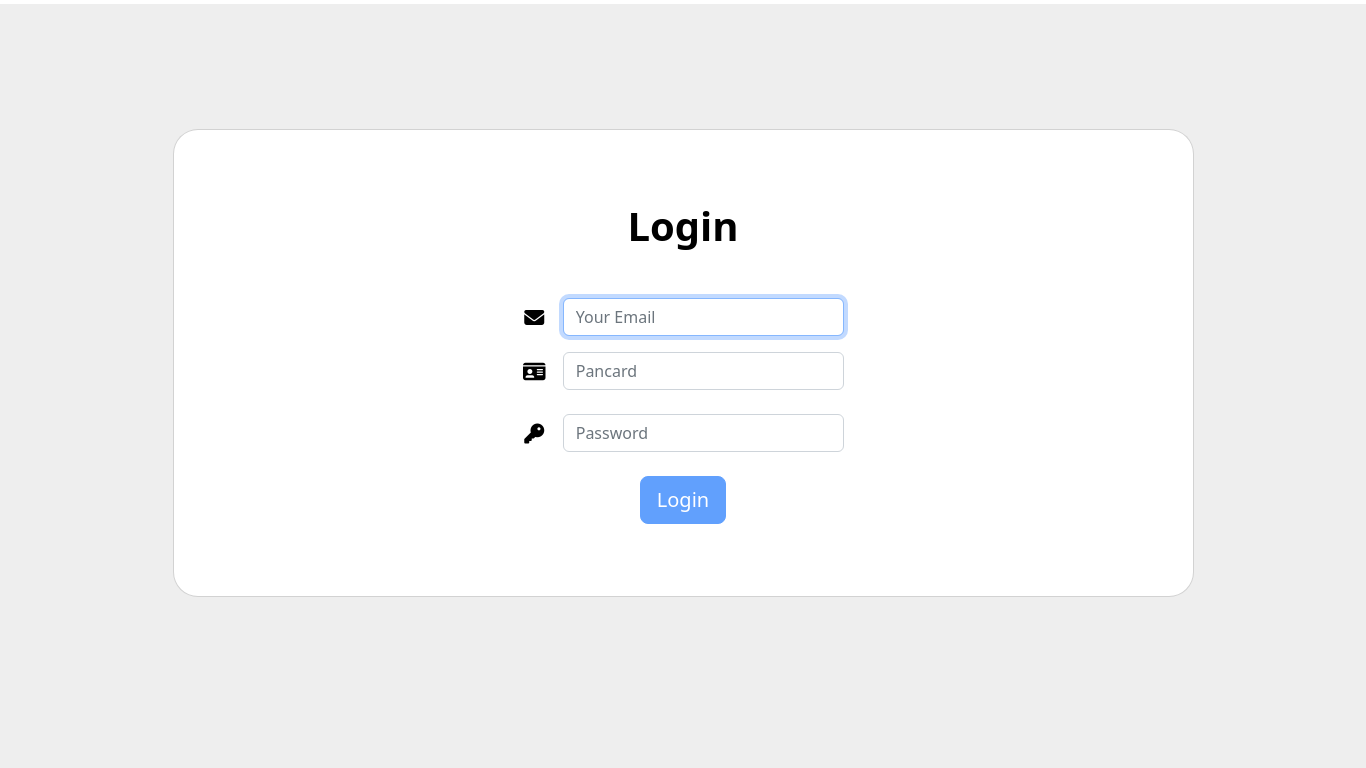
Login Page › should handle errors in input
Press Tab
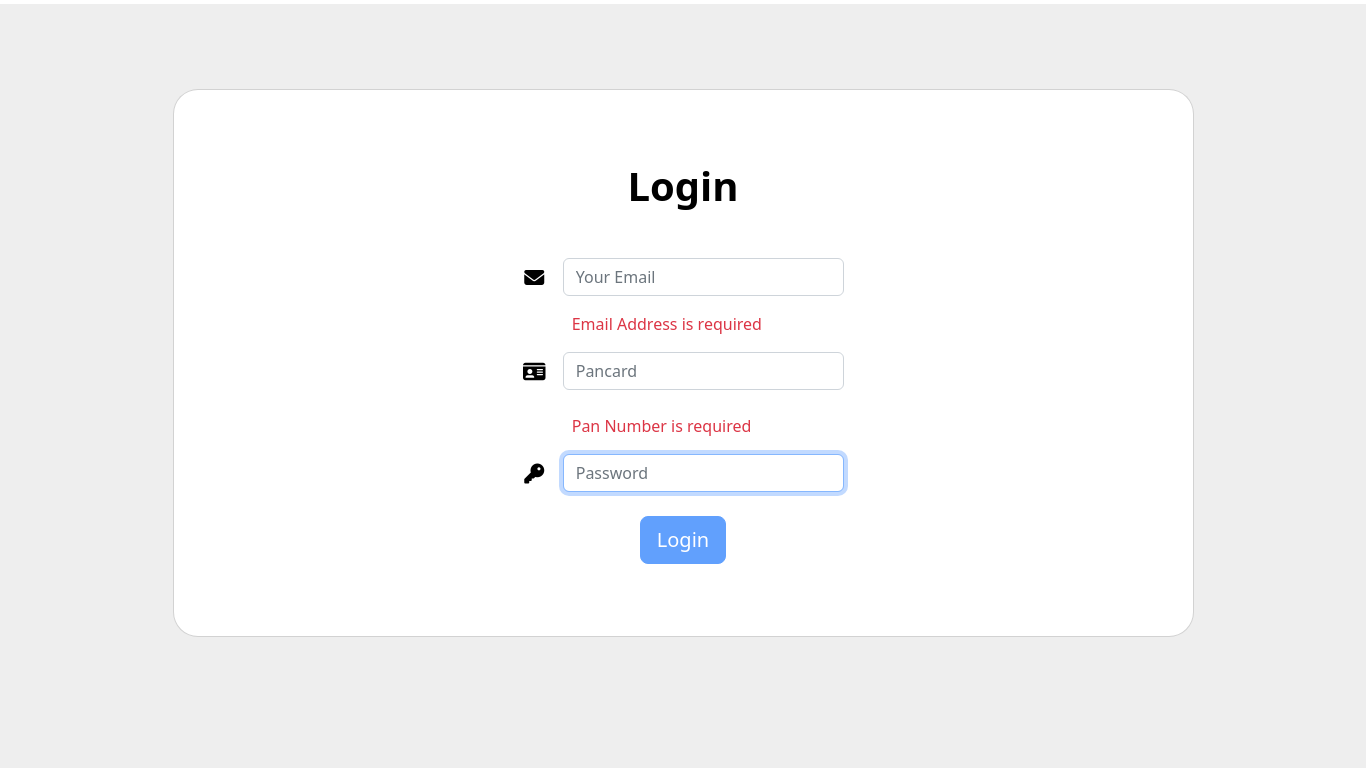
Expected: the text "Email Address is required" is shown, [572,313,762,335]
Press Tab
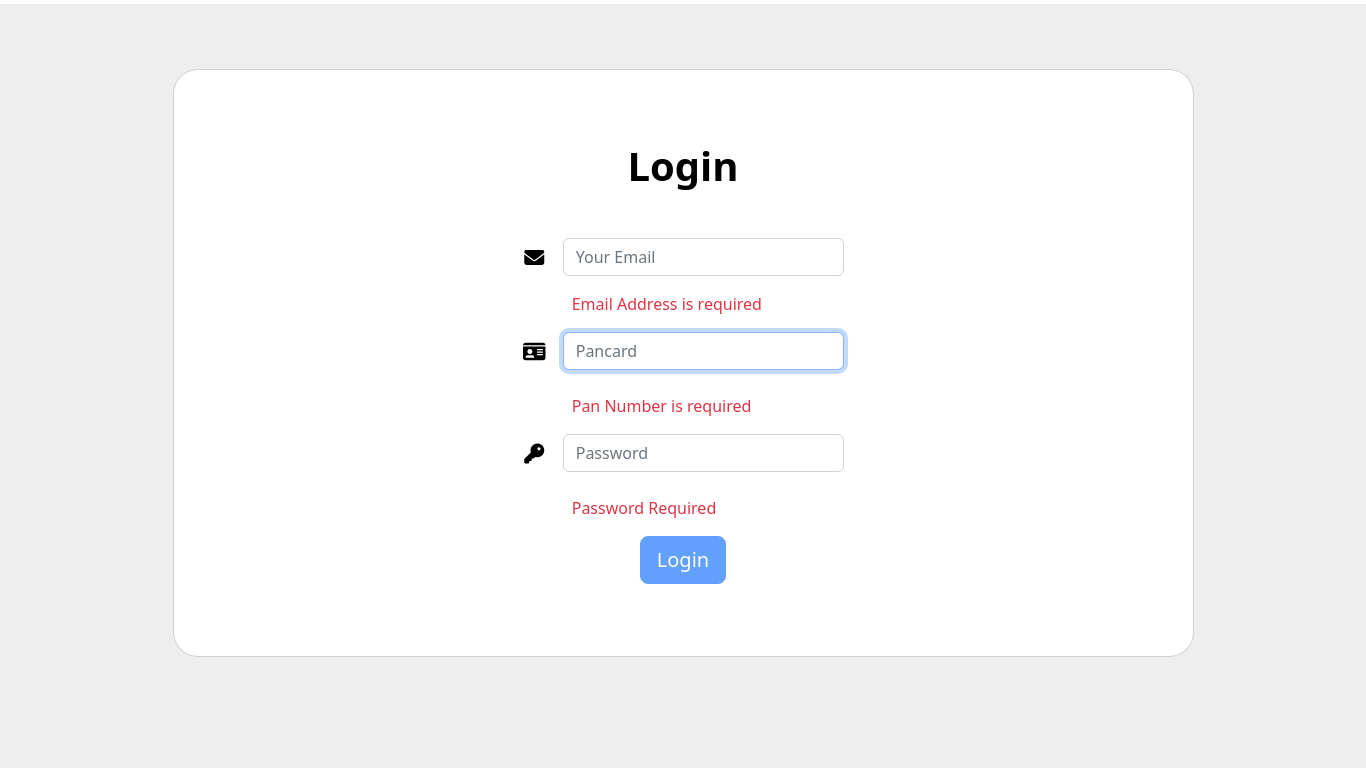
Expected: the text "Password Required" is shown, [572,497,716,519]
Press Tab
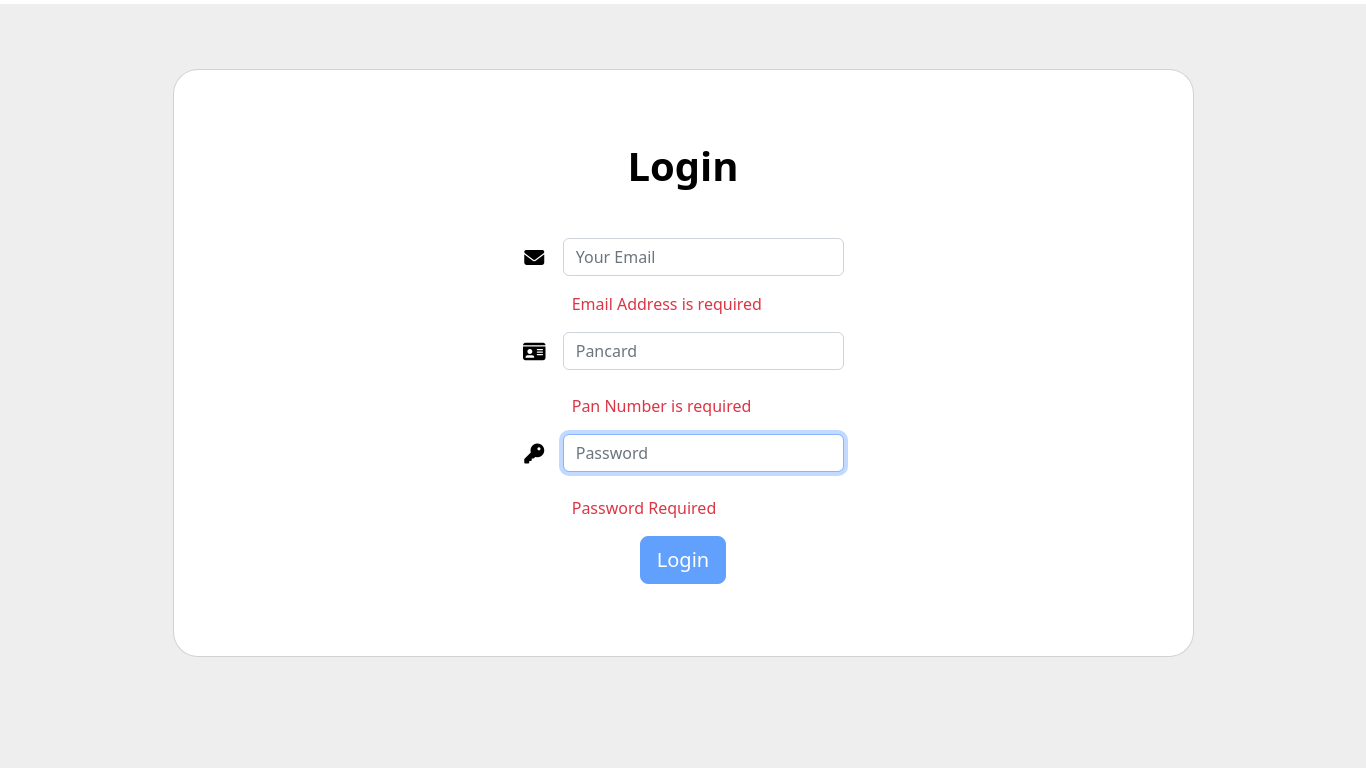
Expected: the text "Pan Number is required" is shown, [572,395,751,417]
In the field labelled "Email": (704, 257) [563,238,844,276], type "mOCK1"
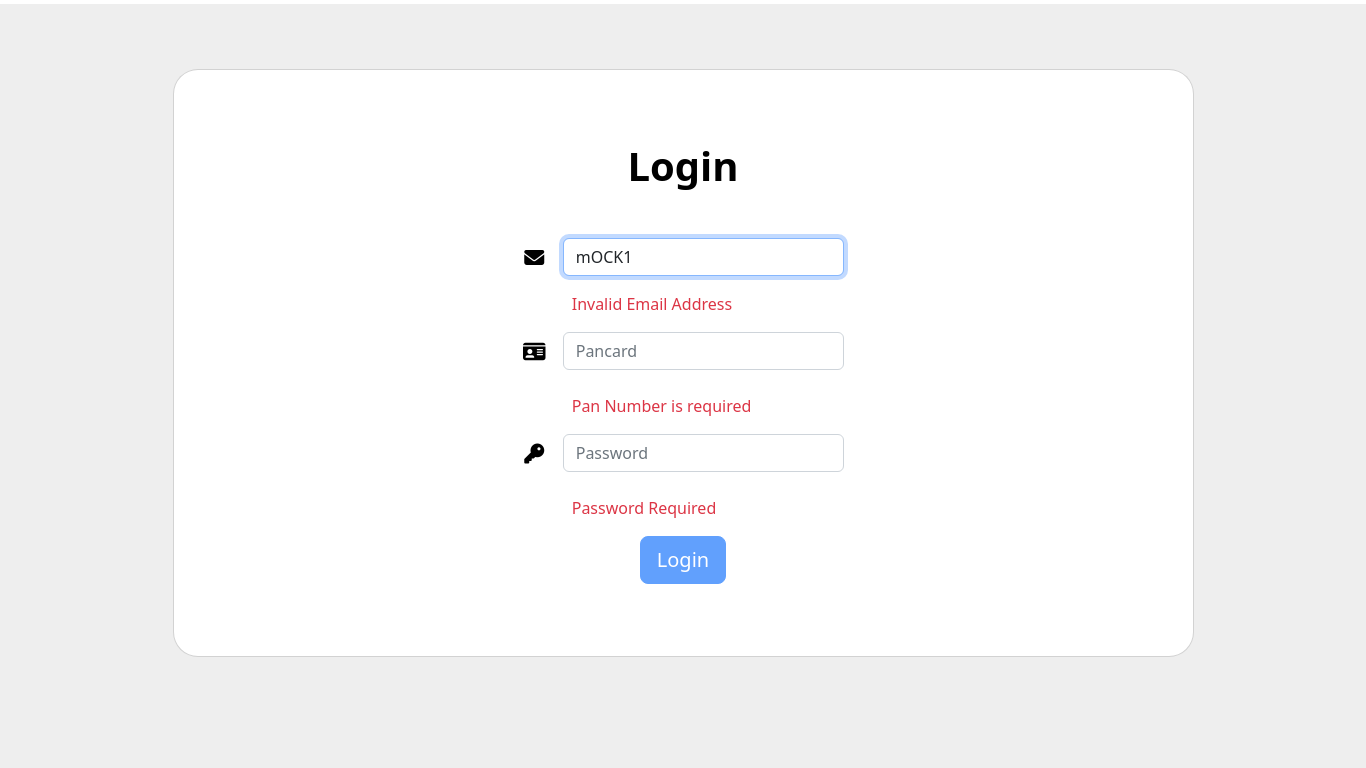
Expected: the text "Invalid Email Address" is shown, [572,293,732,315]
In the password field with placeholder "Password": (704, 453) [563,434,844,472], type "ui"
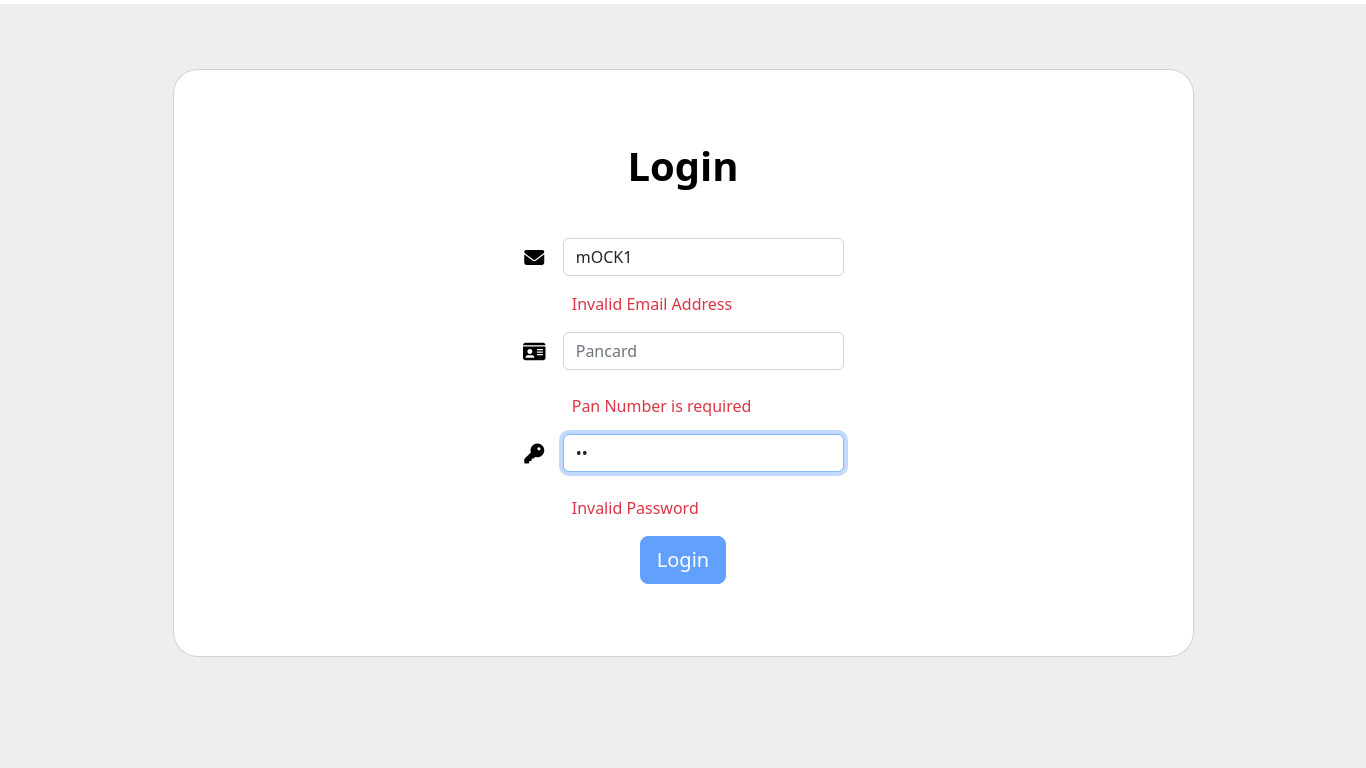
Expected: the text "Invalid Password" is shown, [572,497,699,519]
In the field labelled "Pancard": (704, 351) [563,332,844,370], type "1234"
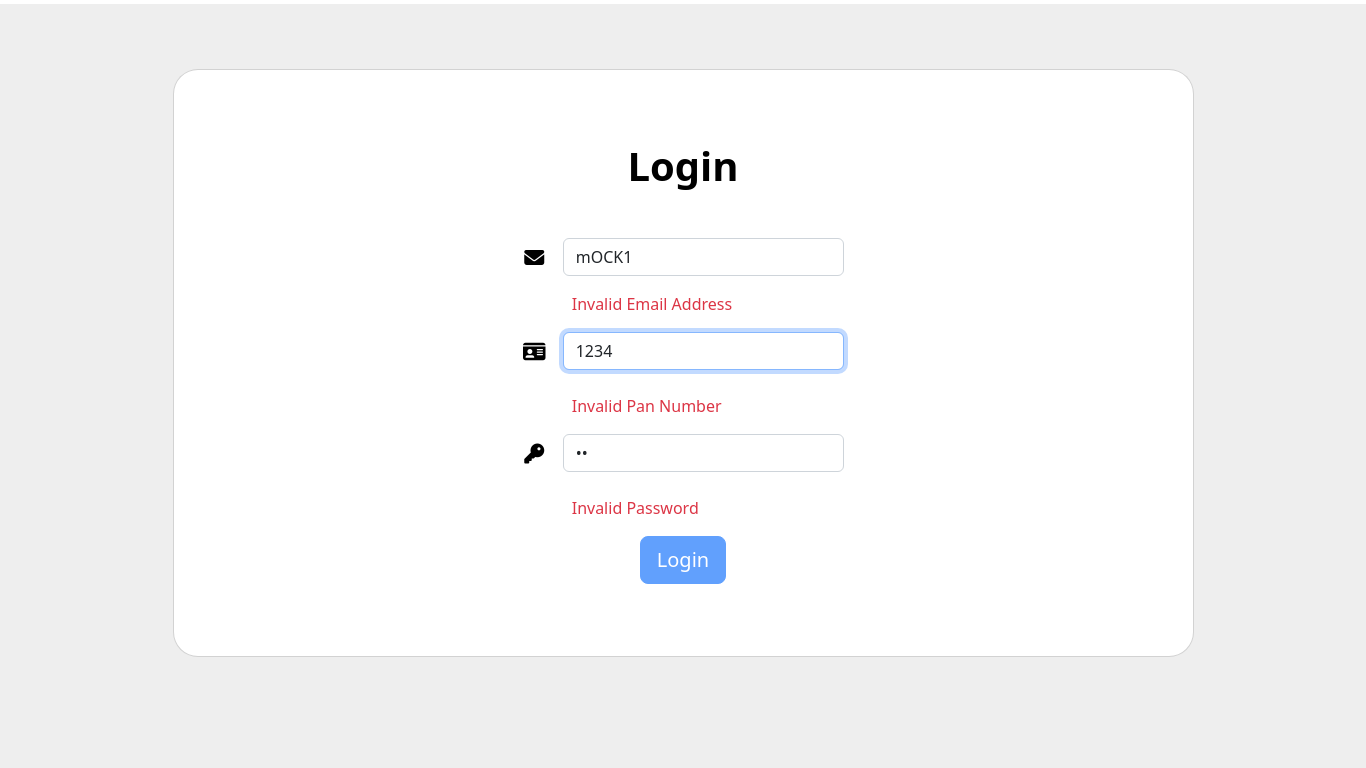
Expected: the text "Invalid Pan Number" is shown, [572,395,722,417]
